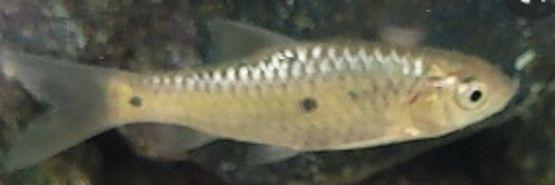Black Spotted Barb: (0, 14, 523, 185)
